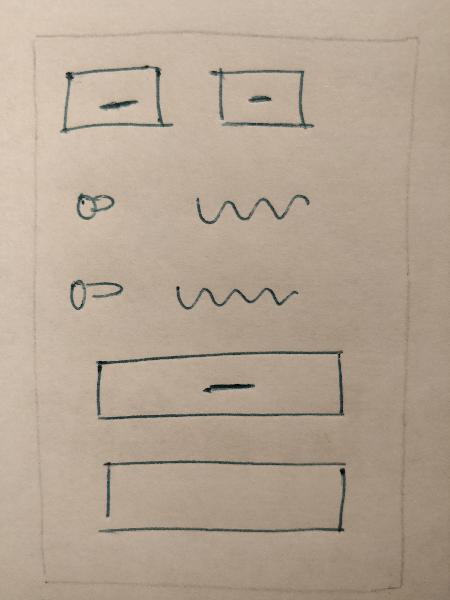button: (85, 345, 354, 429), (52, 59, 177, 141), (202, 63, 323, 134)
switch: (59, 267, 131, 315), (63, 183, 123, 228)
text: (176, 186, 323, 234), (165, 272, 307, 312)
text_input: (85, 456, 358, 544)
